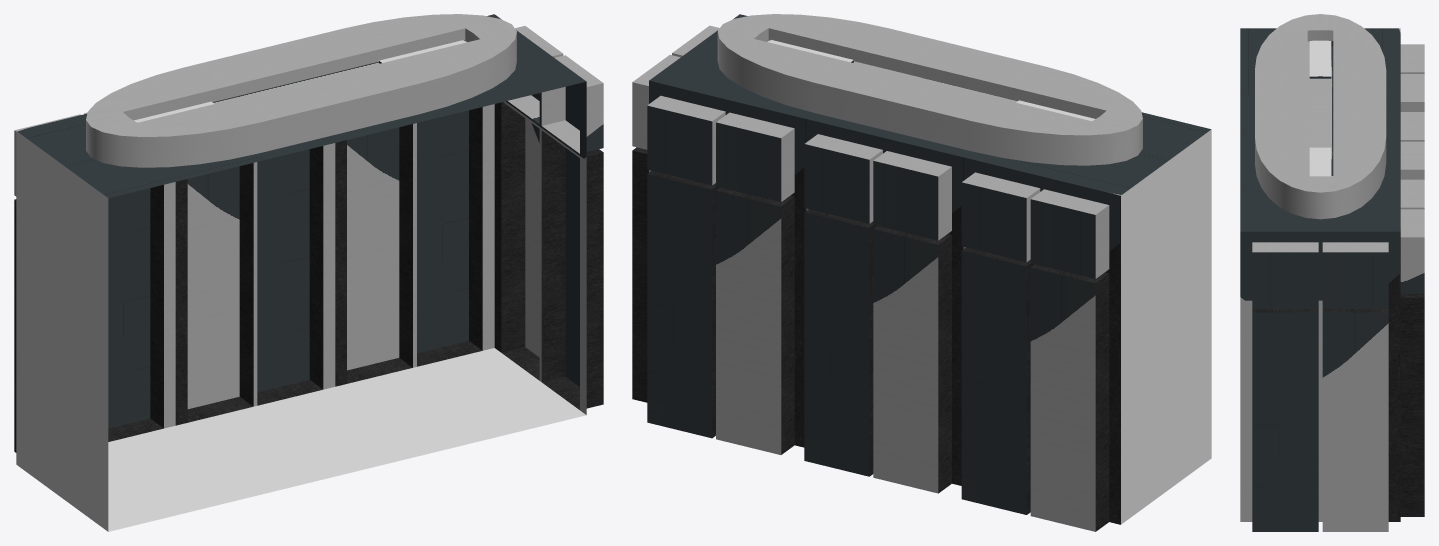
Rendered from MaynoothLibrary.fbx.
The picture shows the model from 3 angles, left to right: view 1: azimuth 30°, elevation 25°; view 2: azimuth 150°, elevation 25°; view 3: azimuth 270°, elevation 25°; orthographic projection. The views are drawn at different scales.
Parts seen in each view (by area): view 1: Ceeling, Window.001, Floor, Window.002, Window.004, WallReg, Window.003; view 2: Window.003, Window.001, Window.002, Ceeling, WallReg, Window.004; view 3: Window.004, Ceeling, Window.002, Window.001, Window.003.
Boxes of the visible parts, x1,y1,x2,y2 form: Ceeling: [17, 14, 586, 198]; Window.001: [175, 143, 335, 425]; Floor: [108, 348, 585, 531]; Window.002: [335, 104, 494, 386]; Window.004: [494, 26, 603, 414]; WallReg: [16, 131, 108, 531]; Window.003: [14, 112, 175, 452]; Window.003: [961, 157, 1120, 531]; Window.001: [804, 119, 963, 493]; Window.002: [647, 80, 806, 454]; Ceeling: [649, 14, 1210, 195]; WallReg: [1121, 129, 1211, 524]; Window.004: [632, 25, 719, 402]; Window.004: [1240, 231, 1400, 531]; Ceeling: [1240, 14, 1400, 231]; Window.002: [1400, 179, 1424, 516]; Window.001: [1400, 112, 1424, 179]; Window.003: [1400, 44, 1424, 111].
Size of the model in its own units: 1651 by 1145 by 602.
2 materials, 1 textured.
